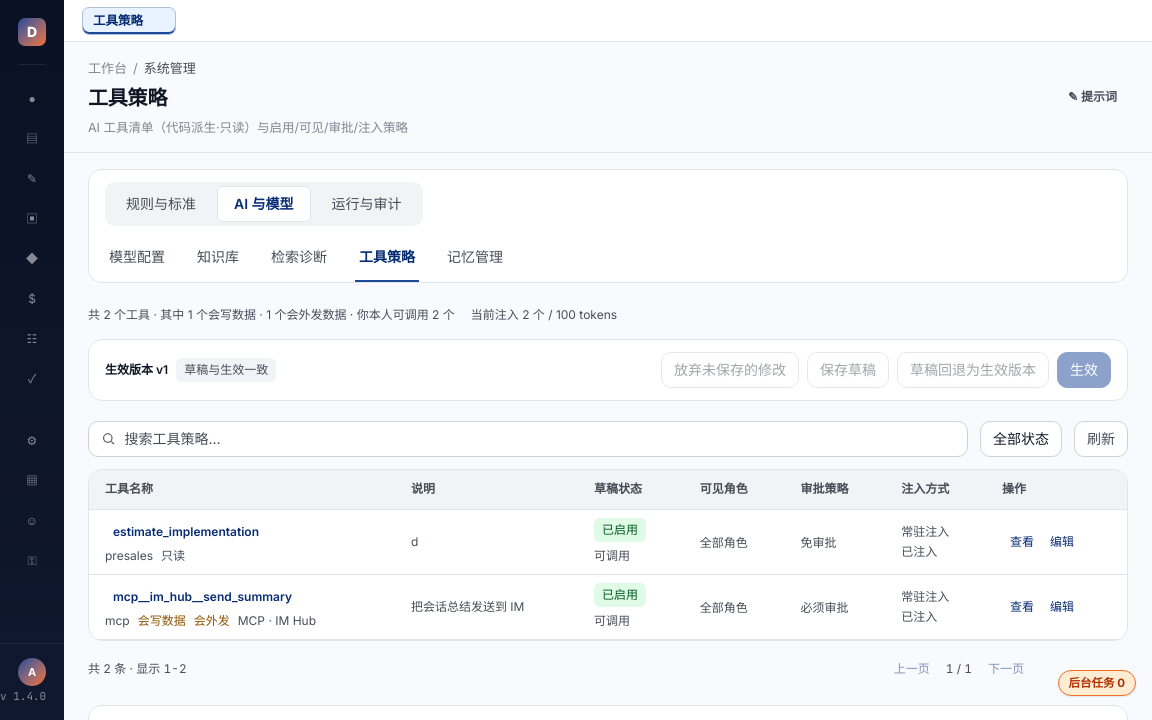
Test case: System management MCP servers (批次 7 第六配置区) › 工具清单同页呈现 MCP 工具并按 origin 可辨（默认已放行态 + 恒外发）
The image size is (1152, 720).
Expected: the button "mcp__im_hub__send_summary" is shown, [105,583,300,611]
Expected: the text "MCP · IM Hub" is shown, [238,611,316,631]
Step 1. Click the button with aria-label "查看 estimate_implementation" → (1022,542), box [1002,526,1042,558]
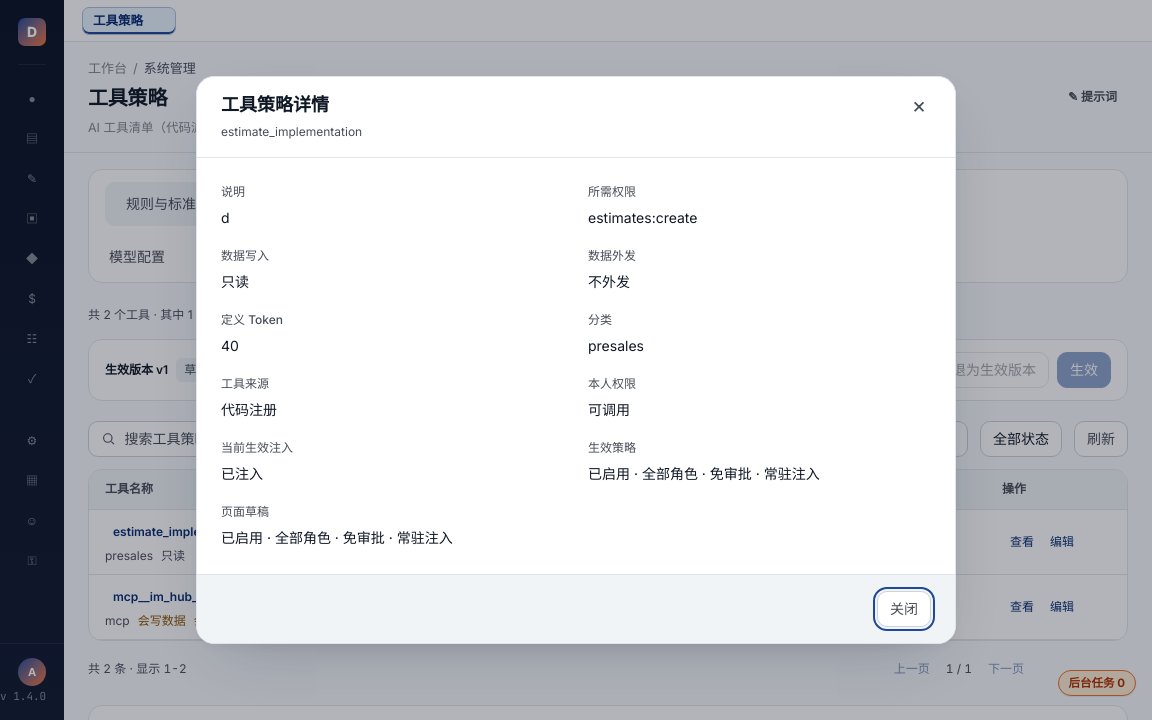
Now the text "不外发" is shown, box [588,273,630,290]
